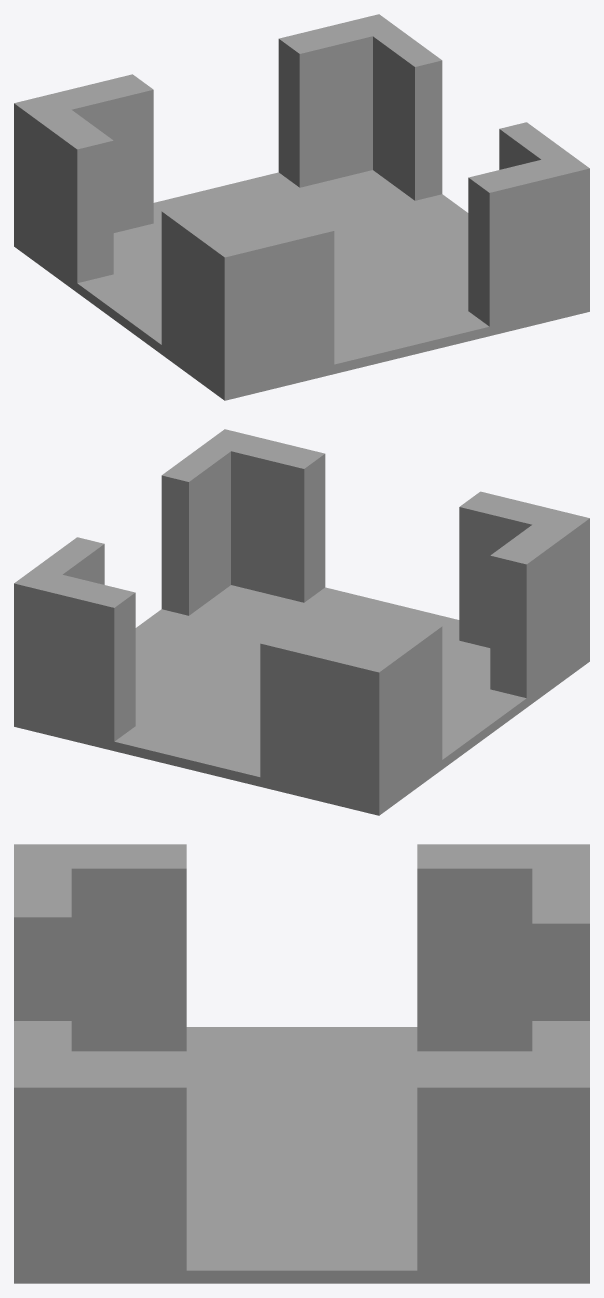
Rendered from 4doors.obj.
3 views of the same model, one above another, from view 1: azimuth 30°, elevation 25°; view 2: azimuth 150°, elevation 25°; view 3: azimuth 270°, elevation 25° (orthographic). The views are drawn at different scales.
Bounding box in the file's own units: 4 × 1.5 × 4.
Materials: 1 (1 with a texture image).
